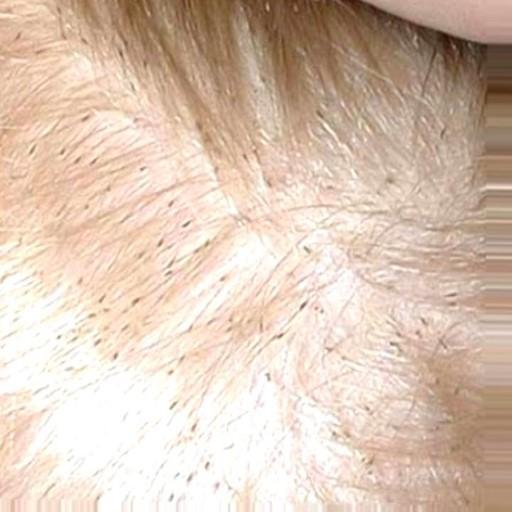Head_Lice: (175, 350, 195, 369), (269, 330, 291, 347), (263, 370, 280, 391), (75, 276, 93, 293), (78, 113, 99, 127), (295, 296, 313, 312), (193, 116, 208, 133), (313, 105, 330, 120), (126, 296, 144, 310), (163, 193, 176, 212), (30, 48, 54, 58), (386, 335, 404, 348), (202, 450, 212, 473), (215, 272, 231, 284), (165, 401, 181, 413), (73, 153, 86, 167), (189, 422, 201, 437), (385, 170, 396, 186), (132, 162, 149, 172), (258, 70, 270, 83), (242, 151, 253, 164), (58, 146, 70, 157), (300, 247, 315, 255), (69, 335, 81, 345), (156, 236, 165, 247), (327, 183, 336, 191)
